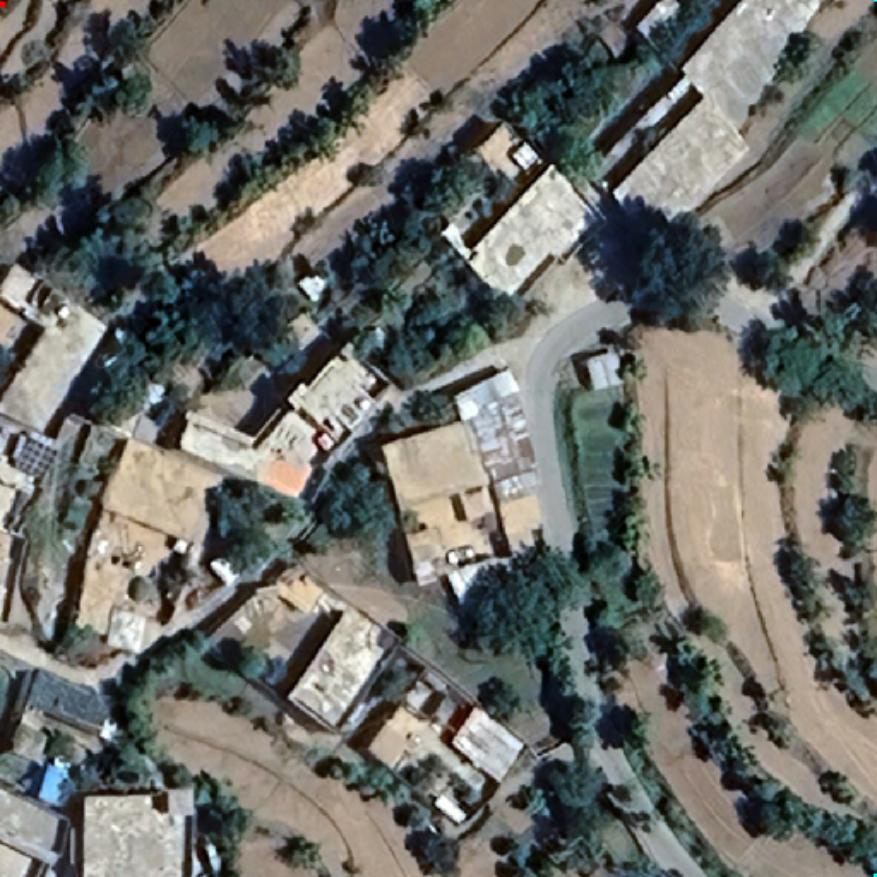Solarpanel: (12, 435, 60, 481)
